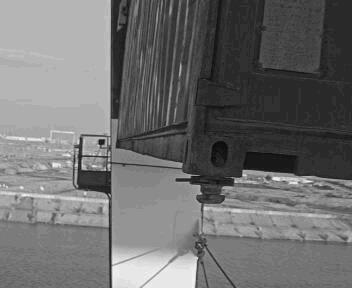twist_lock_1: (183, 171, 238, 210)
